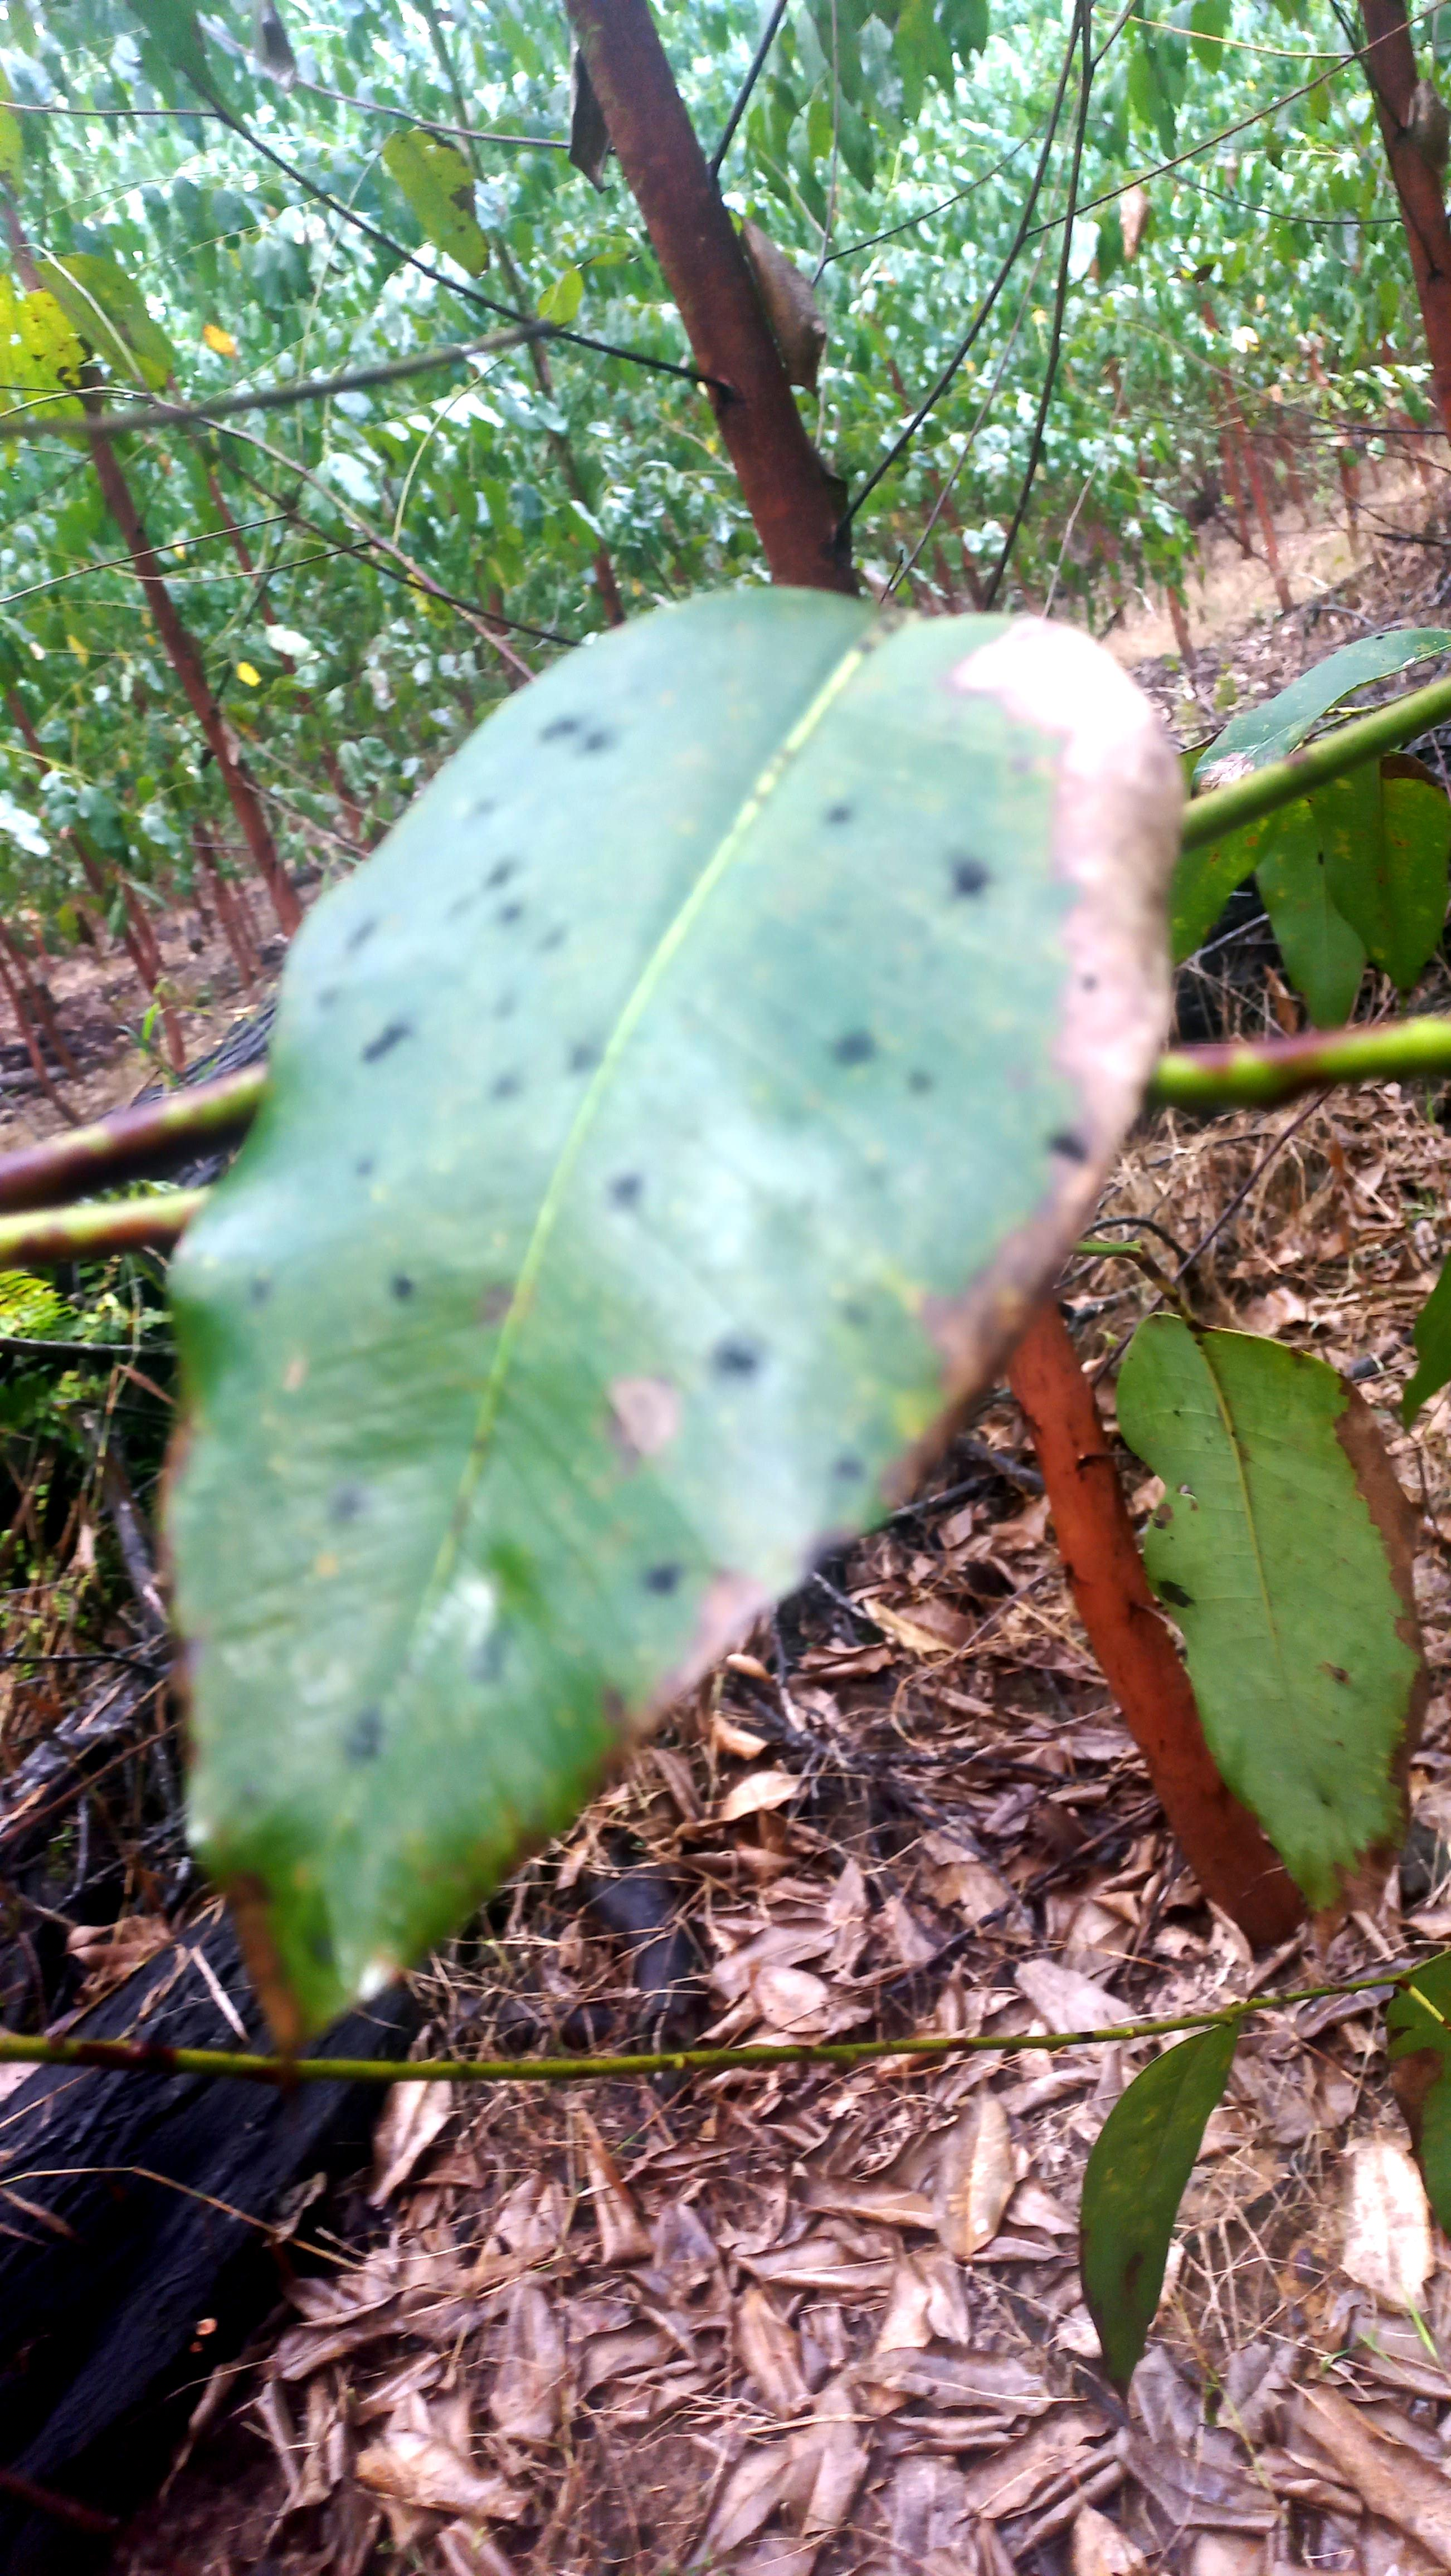Cylindrocladium: (954, 600, 1182, 1368), (1322, 1366, 1419, 1881), (161, 1863, 395, 2058), (1366, 2040, 1442, 2151)
Embun Jelaga: (122, 603, 924, 1799)
